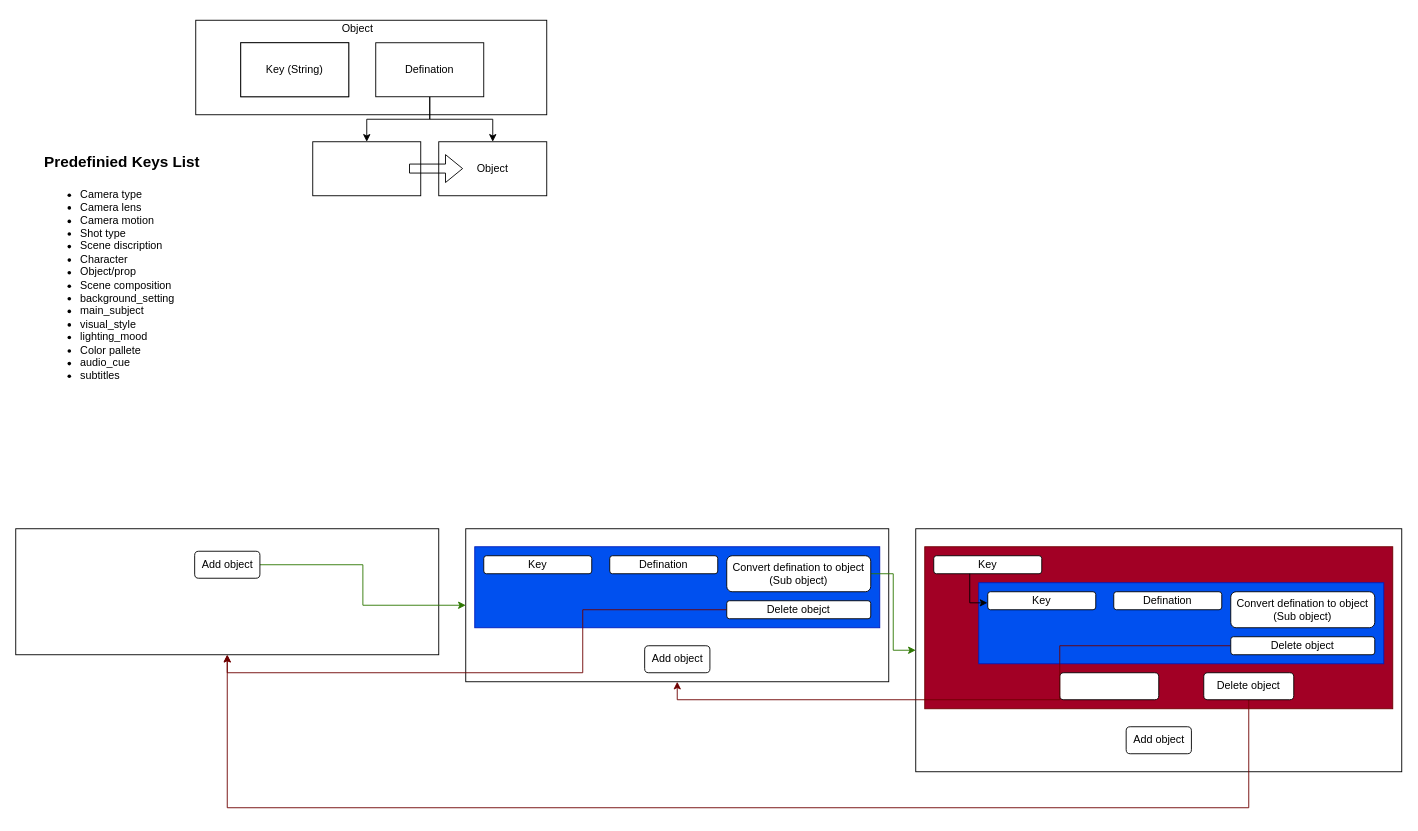
Image size: 1418x831. Some labels were removed from this diagram. The box of each missing label's shape, as (x1, y1, x2, y2) in pixels:
Add sub object: (1059, 672, 1159, 700)
String: (312, 141, 421, 196)
